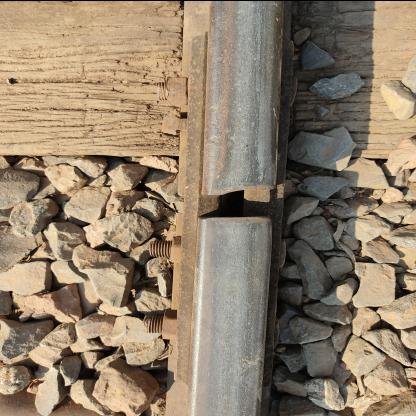Defective: (164, 113, 316, 289)
